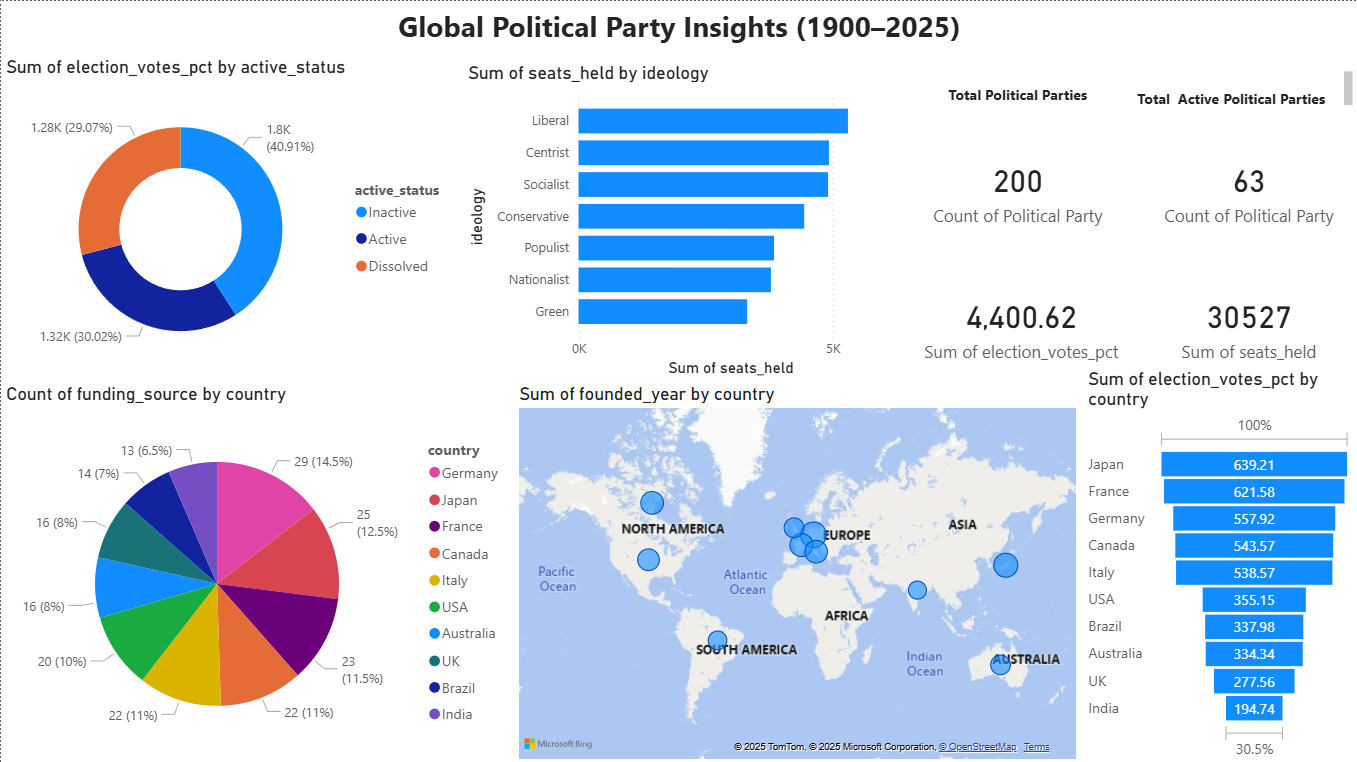

What the dashboard file says about the page in this screenshot:
{"tool":"powerbi","page":{"name":"Page 1","canvas":[1280,720],"ordinal":0},"visuals":[{"type":"card","fields":{"Values":["Count(Political Party)"]},"box":[844.3,114.2,230,128.3],"z":0,"group":"g1"},{"type":"clusteredBarChart","fields":{"Category":["Political Party.ideology"],"Y":["Sum(Political Party.seats_held)"]},"box":[435.7,58,408.7,301.8],"z":0},{"type":"card","fields":{"Values":["Count(Political Party)"]},"box":[1074.3,114.2,205.7,128.3],"z":1000,"group":"g1"},{"type":"pieChart","fields":{"Y":["CountNonNull(Political Party.funding_source)"],"Category":["Political Party.country"]},"box":[0,360,483.6,360],"z":1000},{"type":"textbox","box":[844.3,58,229.8,56],"z":2000,"group":"g1"},{"type":"donutChart","fields":{"Y":["Sum(Political Party.election_votes_pct)"],"Category":["Political Party.active_status"]},"box":[0,52,435.7,307.8],"z":2000},{"type":"textbox","box":[1050.1,62,229.8,43],"z":3000,"group":"g1"},{"type":"group","id":"g1","title":"Group 1","box":[844.3,58,435.7,312.8],"z":3000},{"type":"card","fields":{"Values":["Sum(Political Party.election_votes_pct)"]},"box":[844.3,242.5,236.6,128.3],"z":4000,"group":"g1"},{"type":"funnel","fields":{"Category":["Political Party.country"],"Y":["Sum(Political Party.election_votes_pct)"]},"box":[1020.9,346.4,259.1,373.6],"z":4000},{"type":"card","fields":{"Values":["Sum(Political Party.seats_held)"]},"box":[1074.3,242.5,205.7,128.3],"z":5000,"group":"g1"},{"type":"map","fields":{"Size":["Sum(Political Party.founded_year)"],"Category":["Political Party.country"]},"box":[483.6,360,535.5,360],"z":5000},{"type":"textbox","box":[0,0,1280,51.8],"z":5001}]}

Visuals, with their boxes in screenshot pixels (x1, y1, x2, y2), scaled from the page's 1280x720 canvas onto the 1357x762 screenshot:
card - Count(Political Party): (895, 121, 1139, 257)
clusteredBarChart - Political Party.ideology x Sum(Political Party.seats_held): (462, 61, 895, 381)
card - Count(Political Party): (1139, 121, 1356, 257)
pieChart - CountNonNull(Political Party.funding_source) x Political Party.country: (0, 381, 513, 761)
textbox: (895, 61, 1139, 121)
donutChart - Sum(Political Party.election_votes_pct) x Political Party.active_status: (0, 55, 462, 381)
textbox: (1113, 66, 1356, 111)
"Group 1" group: (895, 61, 1356, 392)
card - Sum(Political Party.election_votes_pct): (895, 257, 1146, 392)
funnel - Political Party.country x Sum(Political Party.election_votes_pct): (1082, 367, 1356, 761)
card - Sum(Political Party.seats_held): (1139, 257, 1356, 392)
map - Sum(Political Party.founded_year) x Political Party.country: (513, 381, 1080, 761)
textbox: (0, 0, 1356, 55)
